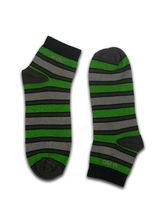sock: (13, 35, 78, 180), (84, 45, 146, 191)
